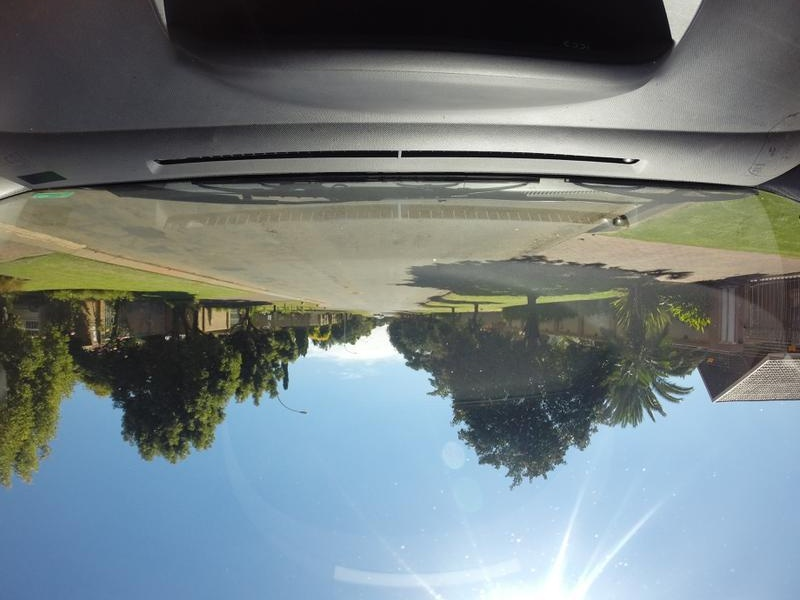pothole: (265, 225, 277, 236)
